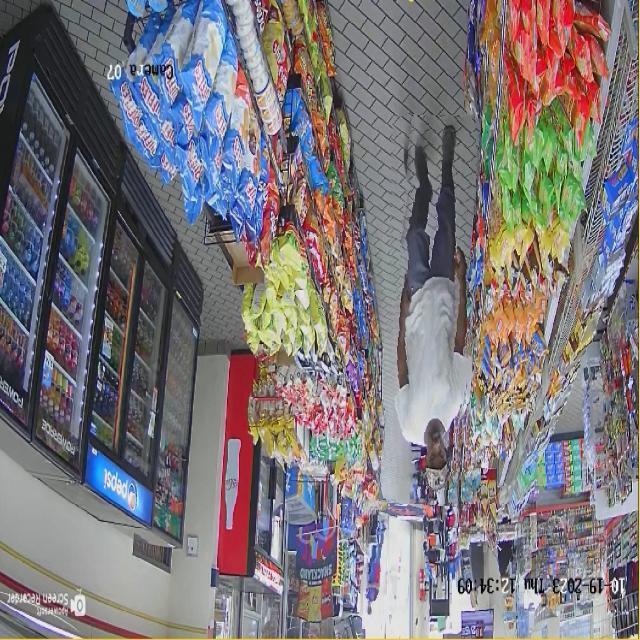Normal: (386, 115, 476, 506), (364, 501, 388, 629)
